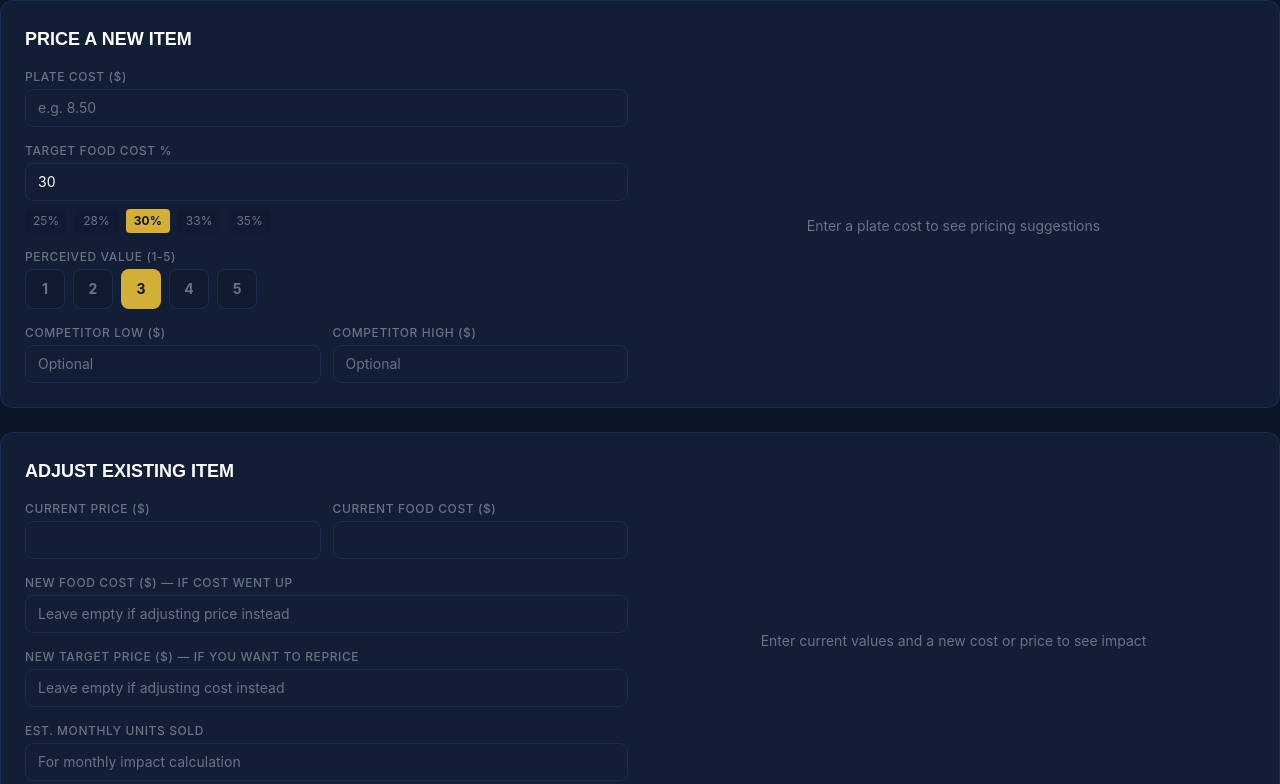
Test: PricingCalculator › ForwardCalculator › quick-select buttons update target food cost %
This screenshot has width=1280, height=784.
Type "10" into the number field with placeholder "e.g. 8.50".
click(326, 108); type("10")  # box [25, 89, 628, 127]
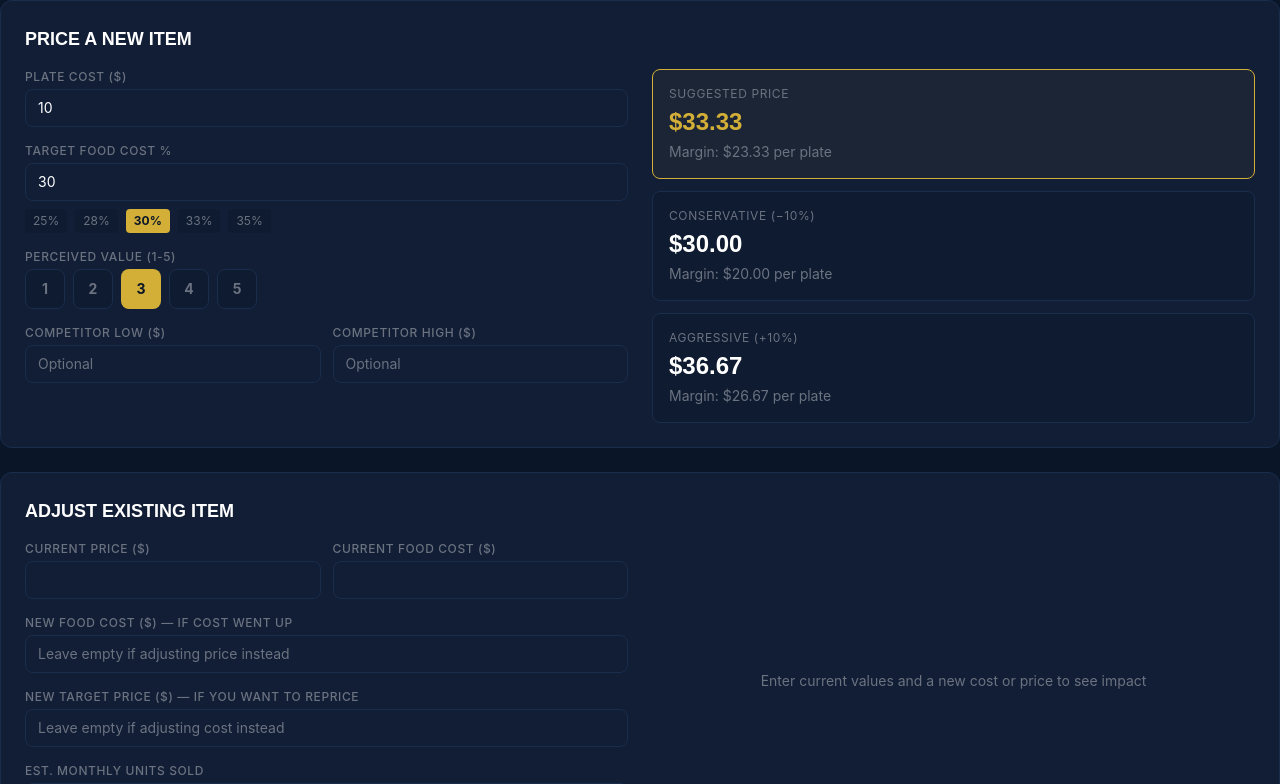
# Click 25% quick-select button
Click the button "25%".
click(46, 221)  # box [25, 209, 67, 233]
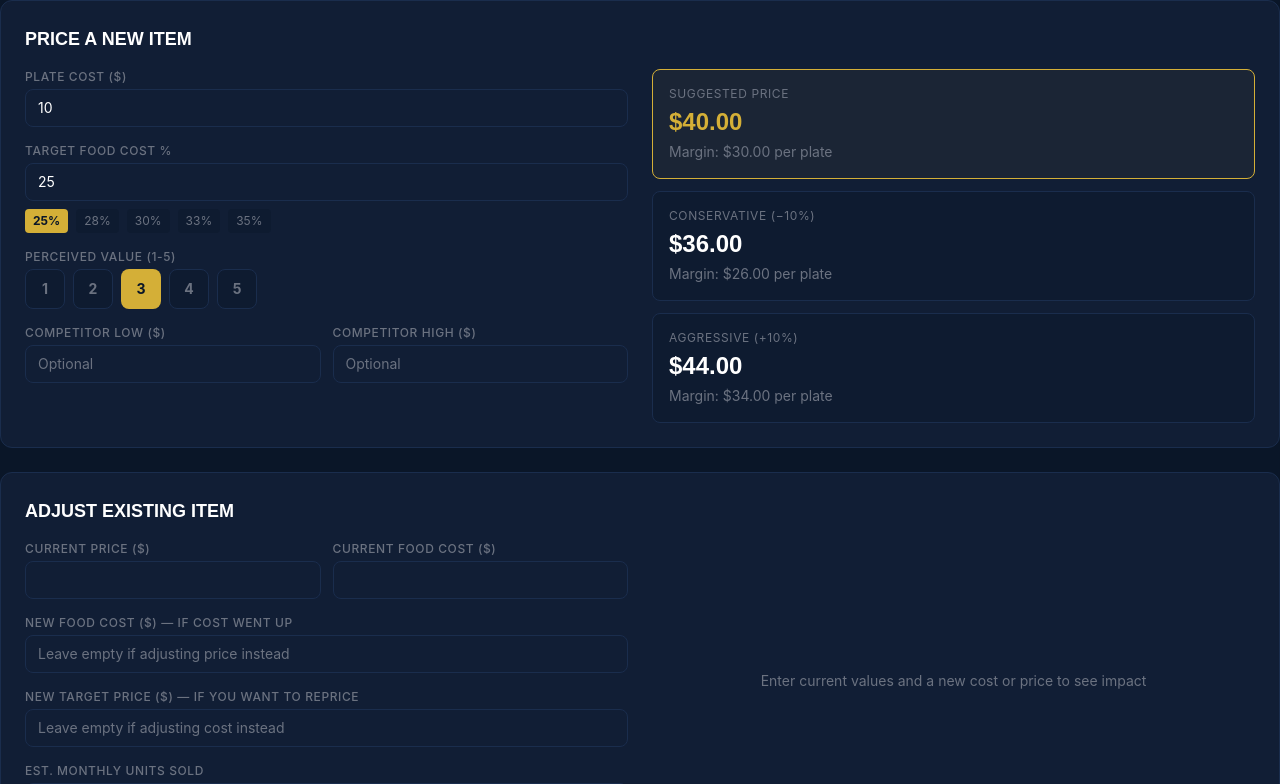
Check: the text "$40.00" is shown, box [669, 108, 742, 135]
